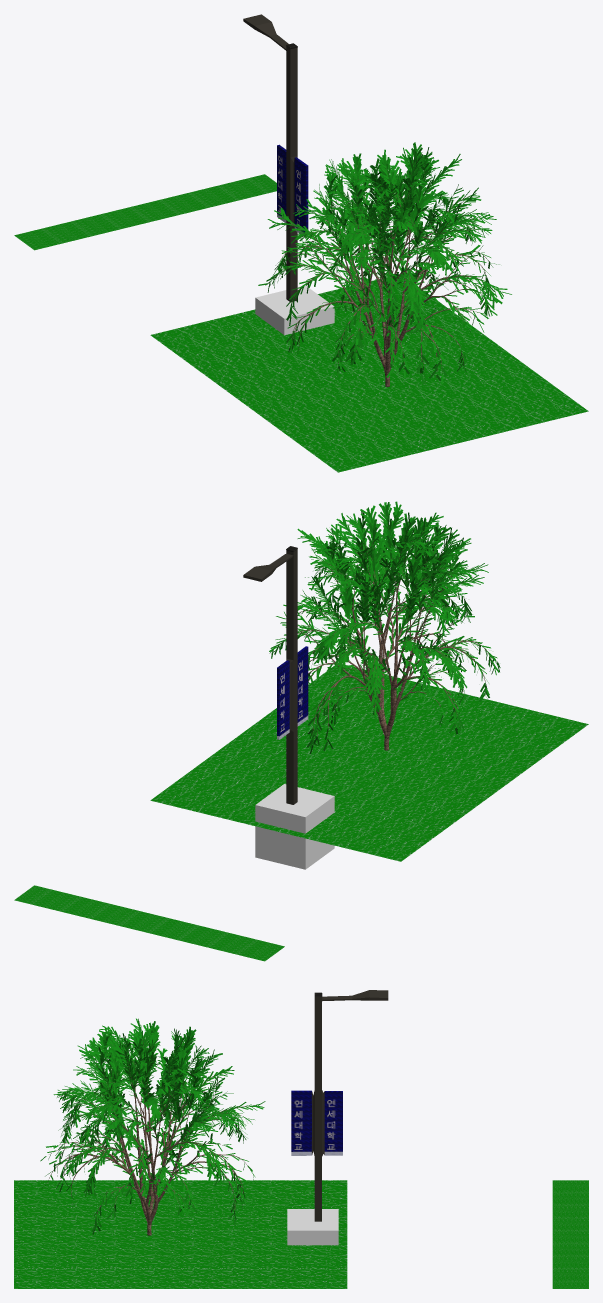
Rendered from ludeng.gltf.
3 renders of one model, top to bottom at view 1: azimuth 30°, elevation 25°; view 2: azimuth 150°, elevation 25°; view 3: azimuth 270°, elevation 25°, orthographic. The views are drawn at different scales.
Parts seen in each view (by area): view 1: Plane, leaves, Plane.002, tree, Cube.003, Cube, Cube.001, Cube.002; view 2: Plane, leaves, Plane.002, tree, Cube, Cube.003, Cube.002, Cube.001; view 3: Plane, leaves, tree, Plane.002, Cube.003, Cube, Cube.001, Cube.002, Cube.004.
Part boxes in pixels (bbox=[...]): Plane: bbox=[150, 274, 588, 472]; leaves: bbox=[258, 142, 511, 384]; Plane.002: bbox=[14, 174, 276, 250]; tree: bbox=[268, 164, 497, 387]; Cube.003: bbox=[286, 43, 297, 301]; Cube: bbox=[255, 285, 334, 335]; Cube.001: bbox=[294, 157, 308, 237]; Cube.002: bbox=[277, 144, 286, 222]; Plane: bbox=[150, 664, 588, 861]; leaves: bbox=[269, 501, 500, 754]; Plane.002: bbox=[14, 885, 284, 961]; tree: bbox=[279, 518, 496, 750]; Cube: bbox=[255, 784, 334, 869]; Cube.003: bbox=[286, 546, 297, 804]; Cube.002: bbox=[277, 660, 289, 739]; Cube.001: bbox=[297, 646, 308, 726]; Plane: bbox=[14, 1180, 347, 1288]; leaves: bbox=[40, 1018, 265, 1234]; tree: bbox=[47, 1033, 254, 1235]; Plane.002: bbox=[552, 1180, 588, 1288]; Cube.003: bbox=[312, 992, 324, 1221]; Cube: bbox=[287, 1209, 338, 1245]; Cube.001: bbox=[291, 1090, 311, 1155]; Cube.002: bbox=[324, 1091, 342, 1155]; Cube.004: bbox=[323, 990, 388, 1000].
Bounding box in the file's own units: 10 × 11.71 × 22.37.
5 materials, 4 textured.
